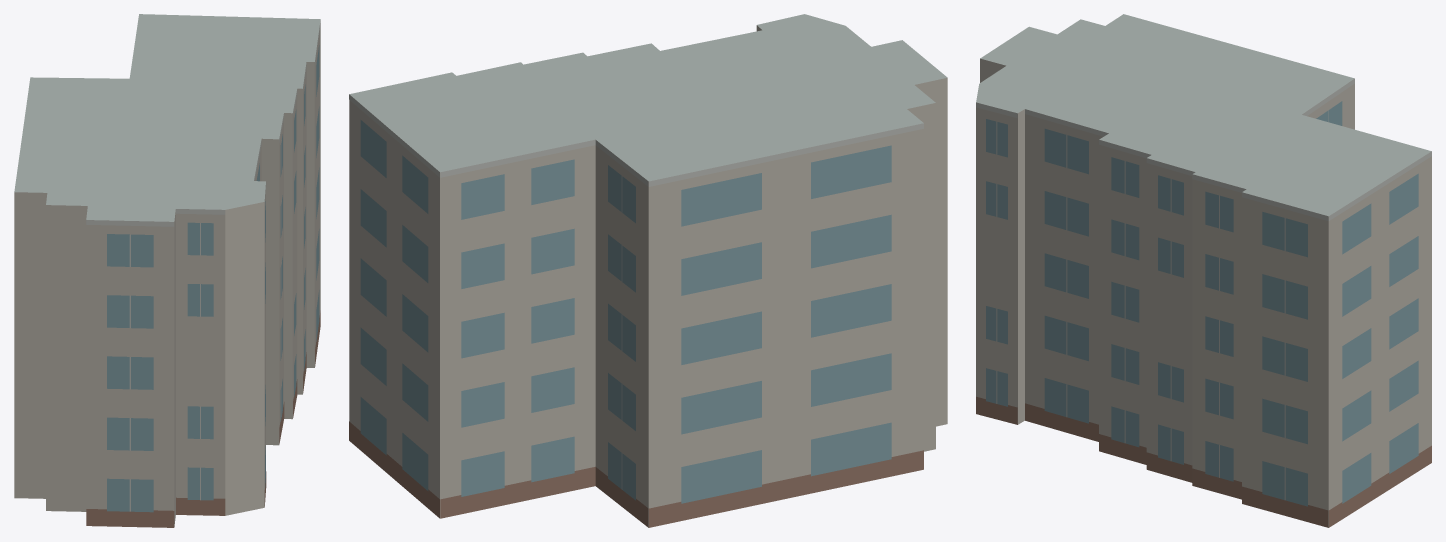
File: survey-upis-32919475.glb
3 views of the same model, side by side, from view 1: azimuth 30°, elevation 25°; view 2: azimuth 150°, elevation 25°; view 3: azimuth 270°, elevation 25° (orthographic). The views are drawn at different scales.
Visible parts, largest first — view 1: survey-upis-32919475.tmp; view 2: survey-upis-32919475.tmp; view 3: survey-upis-32919475.tmp.
Part boxes in pixels (bbox=[...]): survey-upis-32919475.tmp: bbox=[14, 14, 320, 527]; survey-upis-32919475.tmp: bbox=[349, 14, 947, 527]; survey-upis-32919475.tmp: bbox=[976, 14, 1431, 527].
Size of the model in its own units: 21.31 by 15.3 by 20.29.
